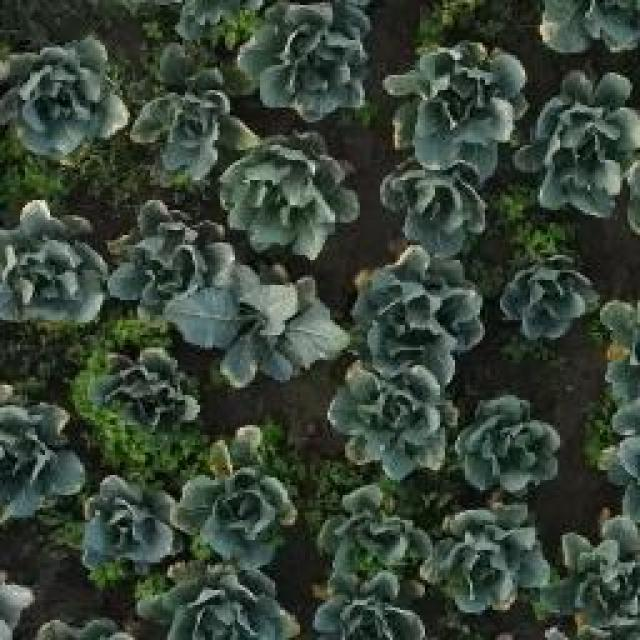cabbage: (193, 258, 331, 387), (525, 70, 640, 220), (386, 44, 526, 164), (328, 355, 460, 477), (422, 506, 558, 624), (0, 36, 127, 162), (353, 251, 489, 368), (240, 0, 372, 120), (223, 132, 350, 256), (182, 442, 304, 566), (0, 201, 111, 335), (450, 389, 564, 510), (104, 195, 217, 312), (130, 69, 247, 177), (313, 484, 429, 588), (143, 561, 295, 640), (0, 385, 84, 518), (79, 471, 181, 572), (559, 513, 640, 639), (376, 161, 498, 242), (304, 564, 430, 640), (501, 250, 594, 349), (104, 346, 193, 426)
